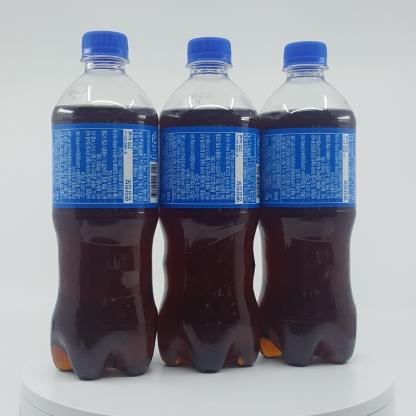------600ML: (50, 31, 159, 380), (157, 37, 262, 373), (256, 41, 357, 366)
